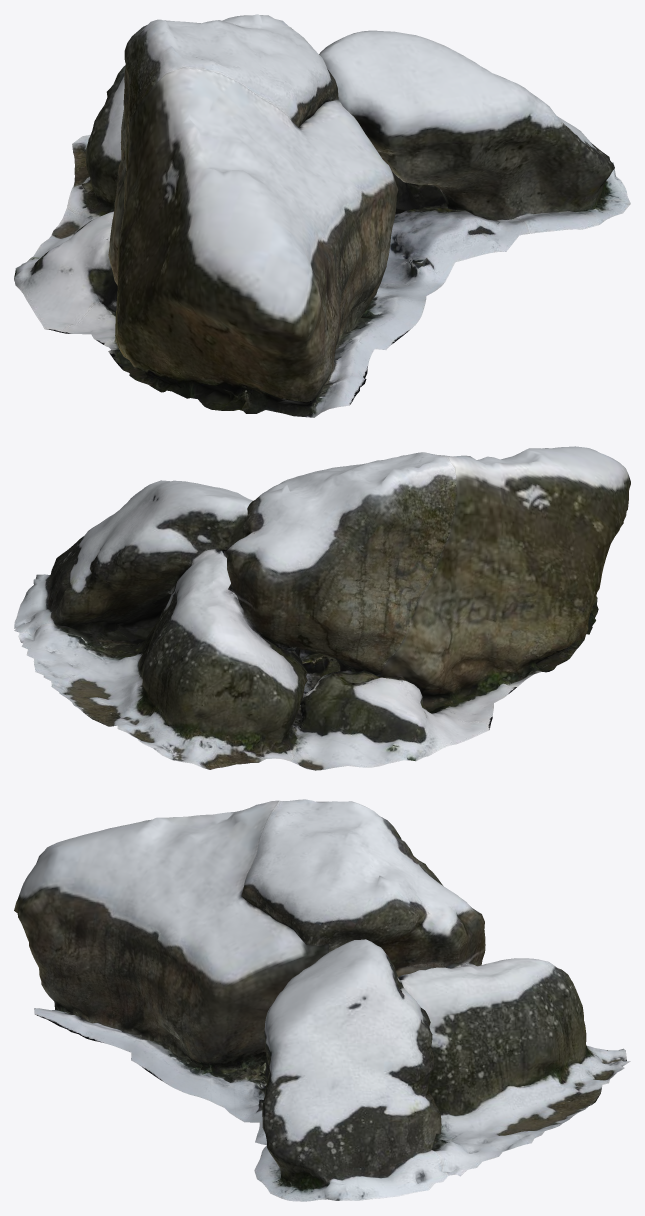
File: pedra_neve.glb
3 views of the same model, one above another, from view 1: azimuth 30°, elevation 25°; view 2: azimuth 150°, elevation 25°; view 3: azimuth 270°, elevation 25° (orthographic). The views are drawn at different scales.
Visible parts, largest first — view 1: pedra_neve; view 2: pedra_neve; view 3: pedra_neve.
Part boxes in pixels (x1=…): pedra_neve: x1=14, y1=14, x2=630, y2=417; pedra_neve: x1=14, y1=446, x2=630, y2=770; pedra_neve: x1=14, y1=799, x2=630, y2=1201.
Size of the model in its own units: 2.11 by 1 by 2.28.
Materials: 1 (1 with a texture image).
